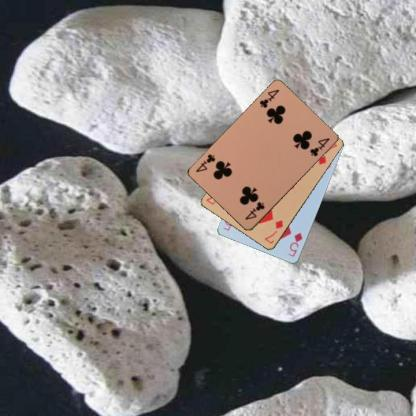4c: (256, 87, 281, 109), (242, 200, 266, 222)
5d: (285, 230, 304, 258)
7d: (262, 218, 284, 245)
